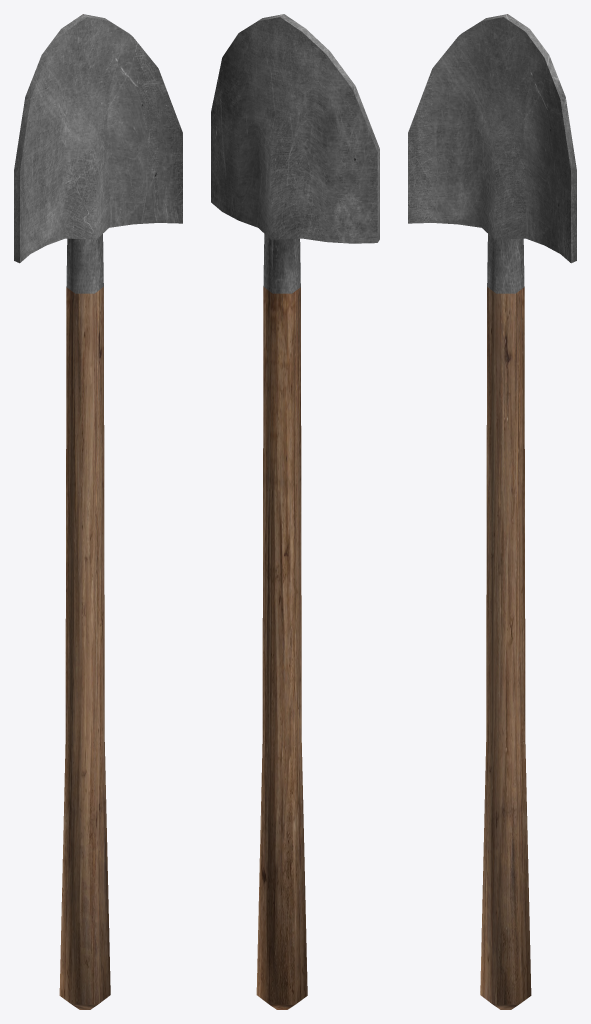
The model's file is Tool_Shovel.glb.
3 views of the same model, side by side, from view 1: azimuth 30°, elevation 25°; view 2: azimuth 150°, elevation 25°; view 3: azimuth 330°, elevation 25° (orthographic).
Visible parts, largest first — view 1: Tool_Shovel; view 2: Tool_Shovel; view 3: Tool_Shovel.
Boxes of the visible parts, box(x1,y1,x2,y2) form: Tool_Shovel: box(14, 14, 182, 1009); Tool_Shovel: box(211, 14, 379, 1009); Tool_Shovel: box(408, 14, 576, 1009).
Bounding box in the file's own units: 0.2374 × 1.35 × 0.0716.
Materials: 1 (1 with a texture image).
